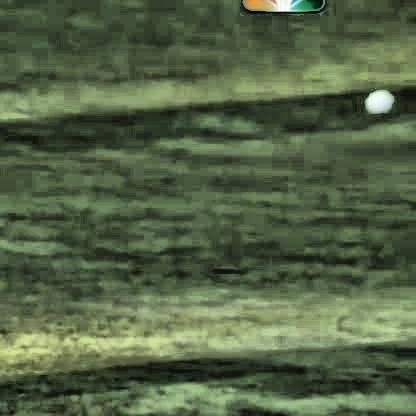golfball: (361, 90, 394, 115)
